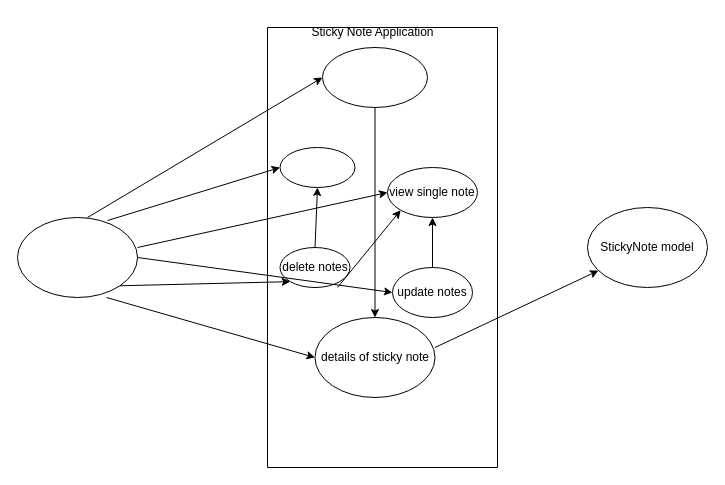
Image size: 725x485. Some labels were removed from this diagram. Here are the shapes that lost their labels. From the top down, the centre of each, then its label:
[375,77]: Create Sticky Note
[317,167]: view notes
[77,257]: User
